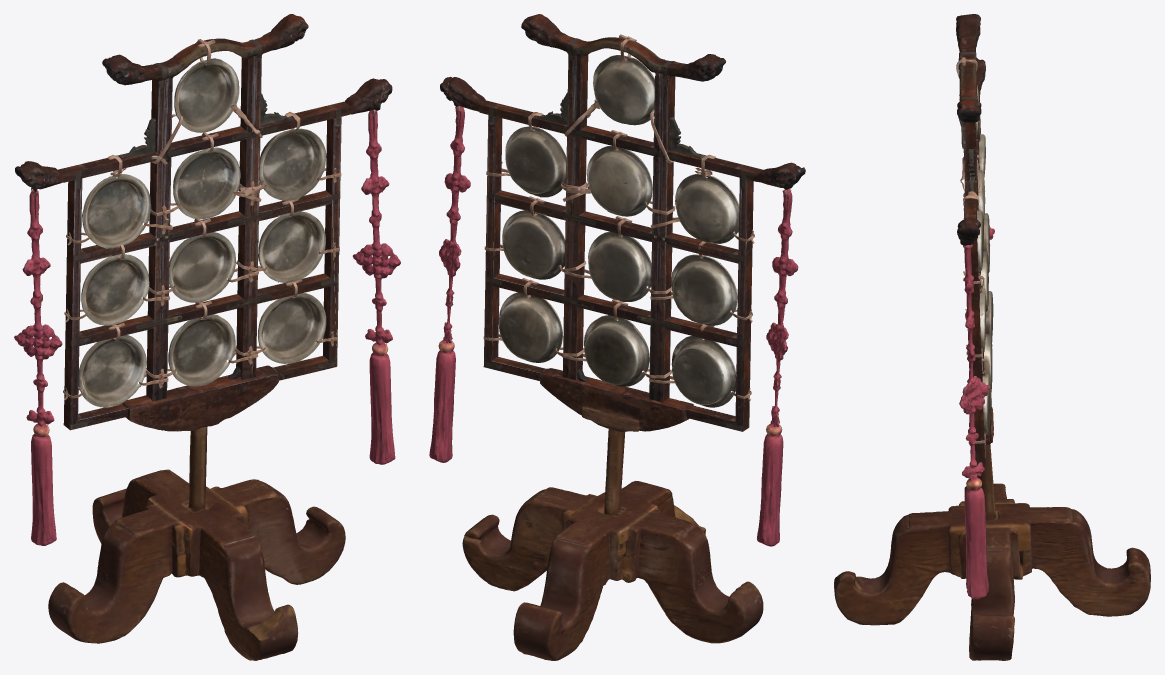
The model's file is unra.glb.
3 views of the same model, side by side, from view 1: azimuth 30°, elevation 25°; view 2: azimuth 150°, elevation 25°; view 3: azimuth 270°, elevation 25° (orthographic). The views are drawn at different scales.
Parts seen in each view (by area): view 1: Object_5, Object_6; view 2: Object_5, Object_6; view 3: Object_5, Object_6.
Part boxes in pixels (bbox=[...]): Object_5: bbox=[14, 14, 400, 660]; Object_6: bbox=[48, 403, 345, 660]; Object_5: bbox=[429, 14, 805, 655]; Object_6: bbox=[513, 383, 763, 660]; Object_5: bbox=[834, 14, 1150, 660]; Object_6: bbox=[842, 426, 1150, 660].
Size of the model in its own units: 0.5372 by 0.8 by 0.408.
3 materials, 2 textured.
